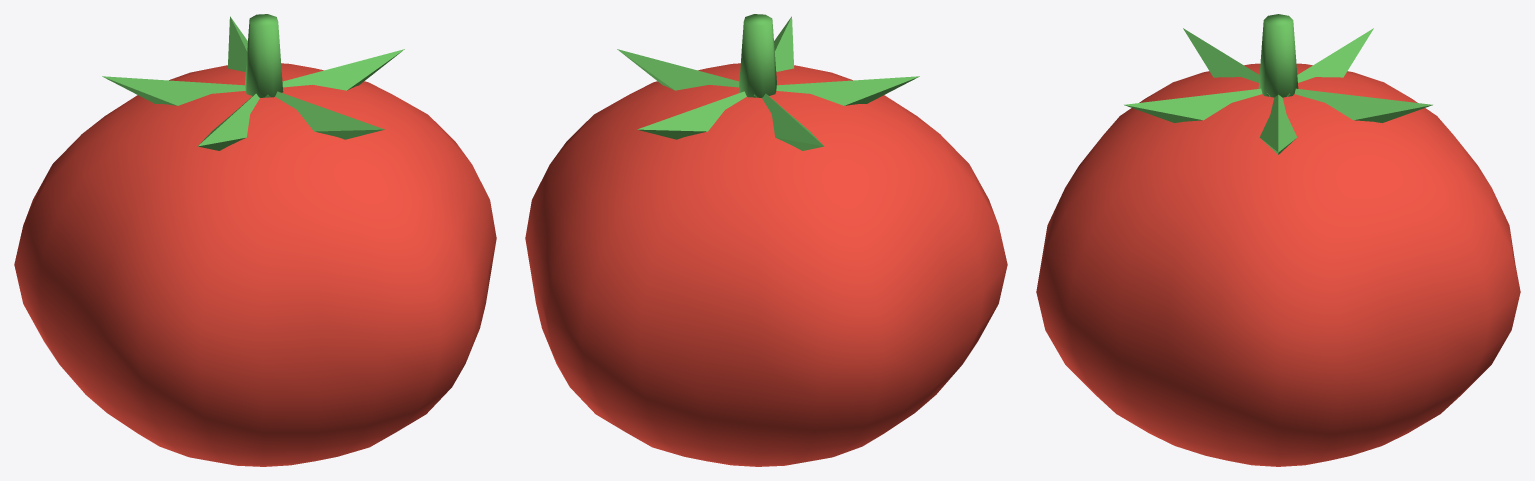
The model's file is tomato.glb.
3 views of the same model, side by side, from view 1: azimuth 30°, elevation 25°; view 2: azimuth 150°, elevation 25°; view 3: azimuth 270°, elevation 25° (orthographic).
Visible parts, largest first — view 1: tomato, tomato_stalk, tomato_leaf_2, tomato_leaf_4, tomato_leaf_0, tomato_leaf_3, tomato_leaf_1; view 2: tomato, tomato_stalk, tomato_leaf_3, tomato_leaf_1, tomato_leaf_0, tomato_leaf_2, tomato_leaf_4; view 3: tomato, tomato_stalk, tomato_leaf_1, tomato_leaf_4, tomato_leaf_2, tomato_leaf_3, tomato_leaf_0.
Part boxes in pixels (bbox=[...]): tomato: bbox=[14, 63, 496, 466]; tomato_stalk: bbox=[245, 14, 283, 97]; tomato_leaf_2: bbox=[102, 76, 245, 105]; tomato_leaf_4: bbox=[275, 91, 384, 139]; tomato_leaf_0: bbox=[282, 49, 404, 90]; tomato_leaf_3: bbox=[197, 93, 259, 150]; tomato_leaf_1: bbox=[227, 16, 270, 97]; tomato: bbox=[525, 63, 1007, 466]; tomato_stalk: bbox=[738, 14, 776, 97]; tomato_leaf_3: bbox=[776, 76, 919, 105]; tomato_leaf_1: bbox=[637, 91, 746, 139]; tomato_leaf_0: bbox=[617, 49, 739, 90]; tomato_leaf_2: bbox=[762, 93, 824, 150]; tomato_leaf_4: bbox=[751, 16, 794, 97]; tomato: bbox=[1036, 63, 1520, 466]; tomato_stalk: bbox=[1258, 14, 1298, 97]; tomato_leaf_1: bbox=[1294, 88, 1432, 122]; tomato_leaf_4: bbox=[1124, 88, 1262, 122]; tomato_leaf_2: bbox=[1266, 28, 1373, 96]; tomato_leaf_3: bbox=[1183, 28, 1290, 96]; tomato_leaf_0: bbox=[1259, 94, 1297, 154].
Size of the model in its own units: 0.1609 by 0.1566 by 0.1635.
